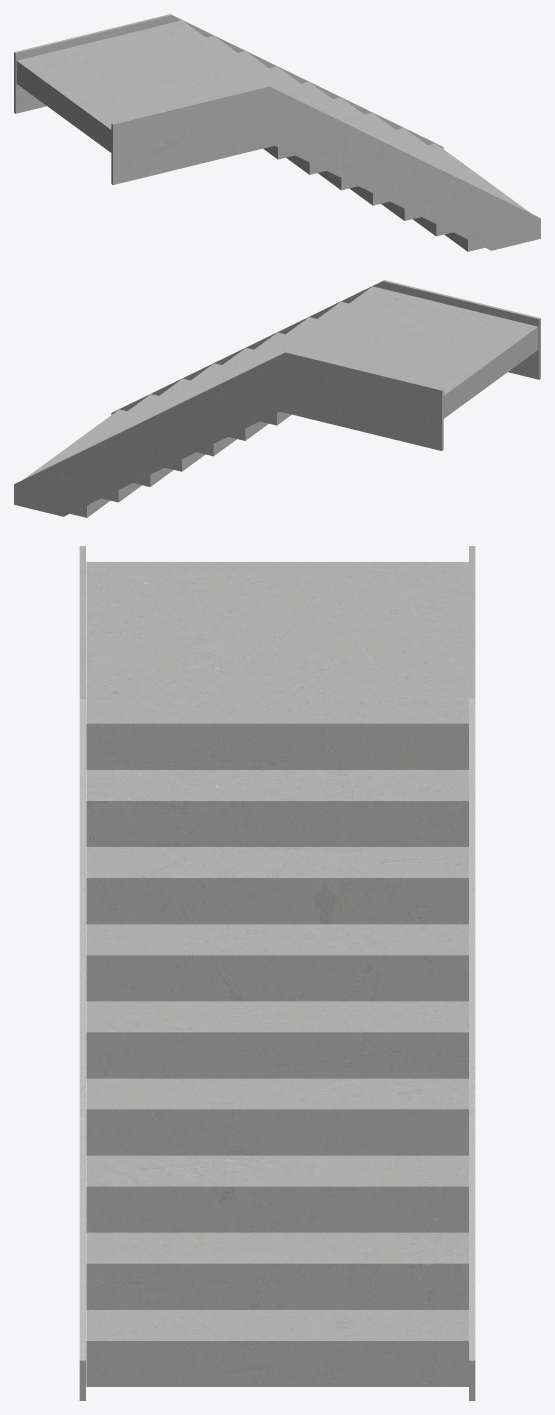
Rendered from StairsNewfbx.FBX.
3 renders of one model, top to bottom at view 1: azimuth 30°, elevation 25°; view 2: azimuth 150°, elevation 25°; view 3: azimuth 270°, elevation 25°, orthographic. The views are drawn at different scales.
Visible parts, largest first — view 1: StairsNewfbx; view 2: StairsNewfbx; view 3: StairsNewfbx.
Boxes of the visible parts, <box> form: StairsNewfbx: <box>14,14,540,251</box>; StairsNewfbx: <box>14,280,540,517</box>; StairsNewfbx: <box>79,546,475,1400</box>.
Size of the model in its own units: 775 by 310 by 378.
